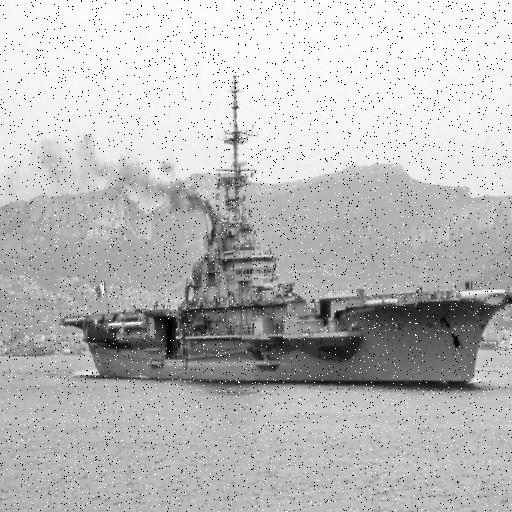Portanaves: (59, 69, 512, 392)
